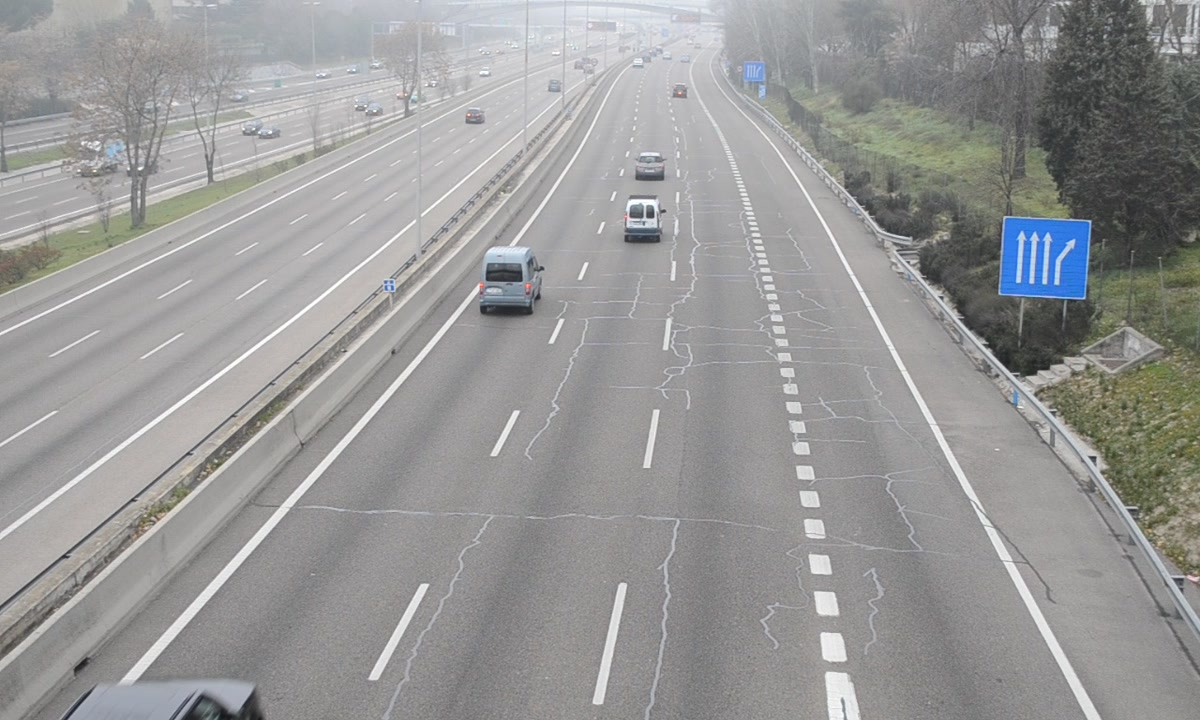car: (634, 152, 666, 181)
van: (479, 247, 540, 309), (623, 194, 662, 243)
